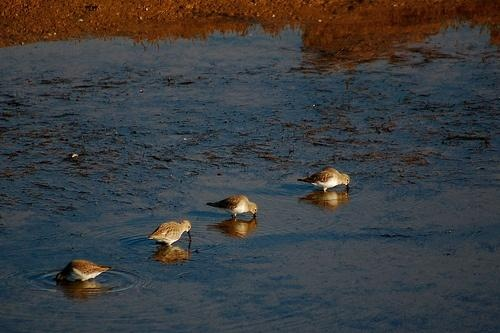bird: (54, 257, 112, 285), (206, 192, 260, 222), (298, 167, 353, 196), (146, 219, 196, 248)
